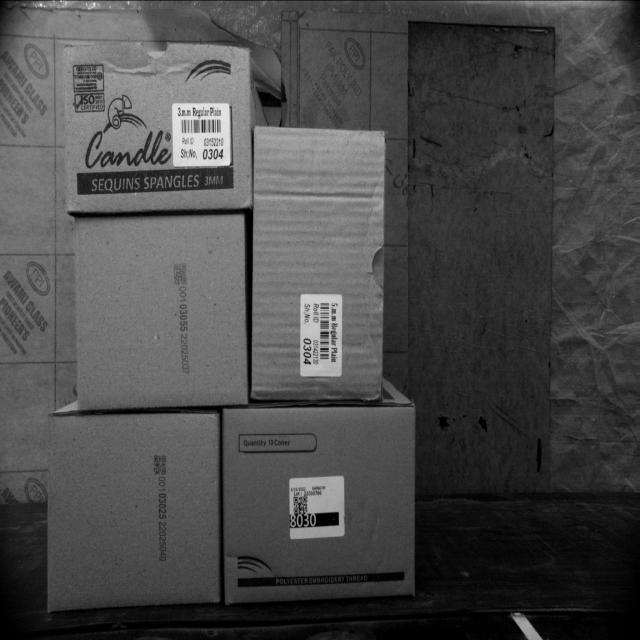box: (224, 402, 418, 608), (250, 127, 387, 401), (75, 212, 248, 408), (48, 414, 220, 606), (65, 41, 252, 209)
